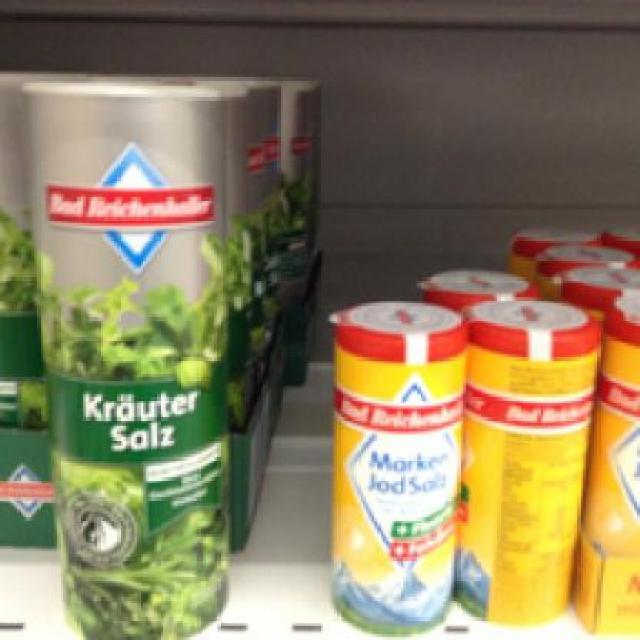Spices: (26, 72, 226, 638), (328, 297, 466, 634), (462, 294, 598, 620)
